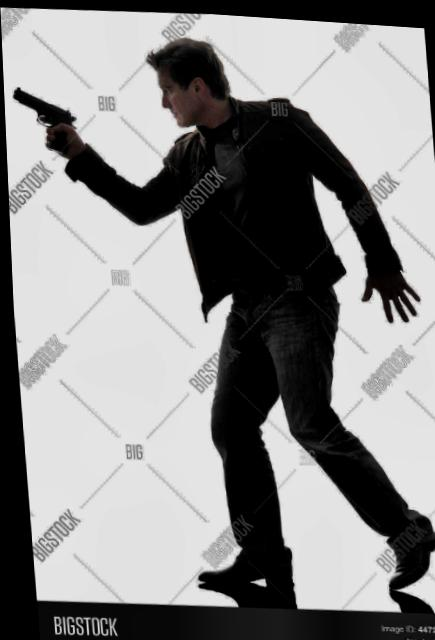pistol: (9, 84, 77, 154)
